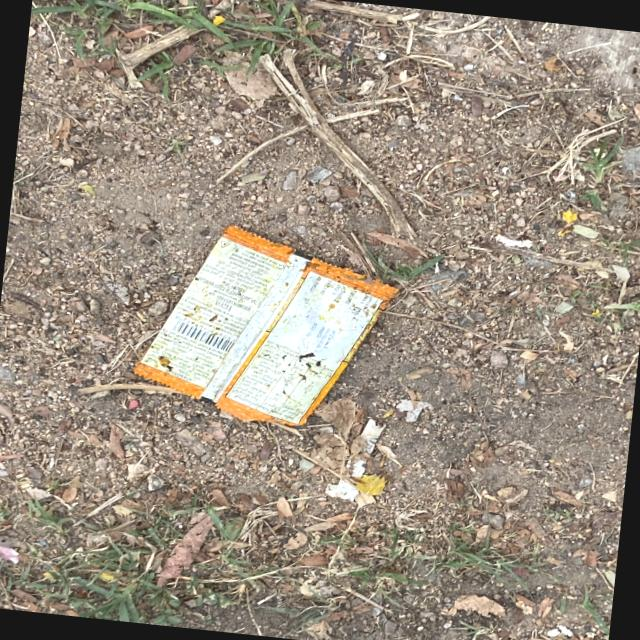giay_goi: (133, 225, 397, 425)
